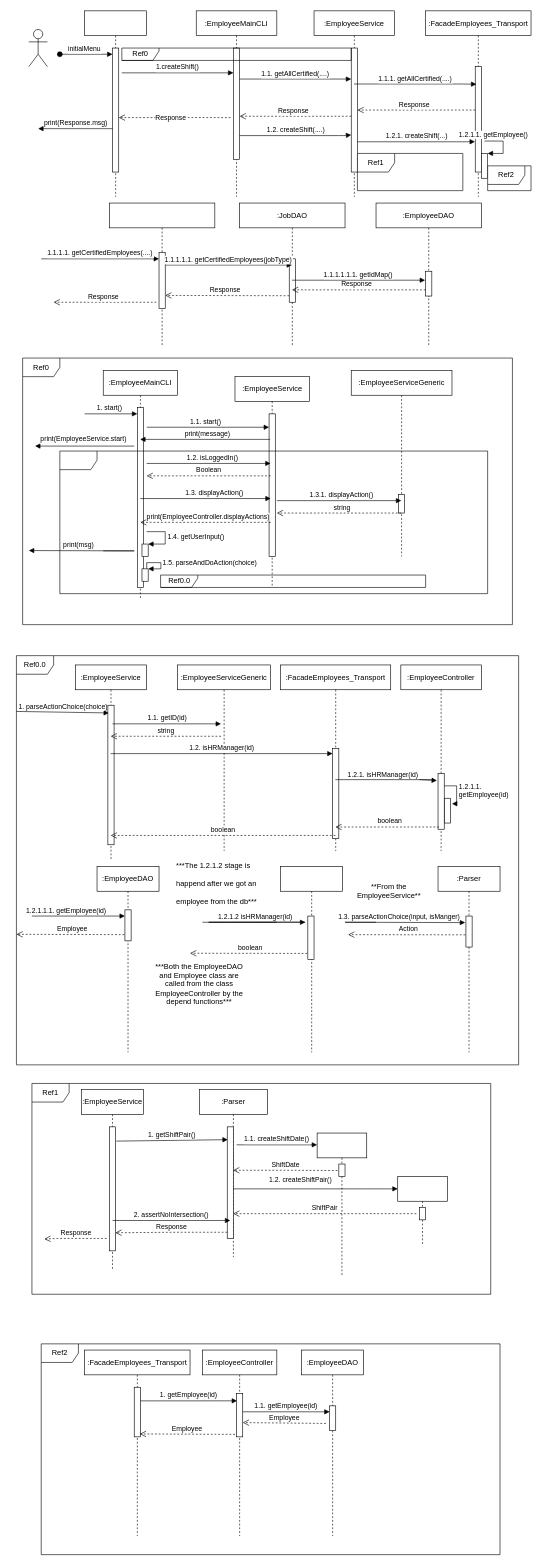
The diagram is 542 pixels wide and 1566 high, and some of its shapes have lost their labels. Each missing label, with the box of its shape:
:Employee: (280, 866, 343, 1052)
:JobController: (109, 202, 215, 346)
:Menu: (84, 10, 147, 197)
:ShiftDate: (317, 1132, 367, 1276)
:ShiftPair: (397, 1176, 447, 1245)
HRManager: (28, 29, 47, 67)
Loop: (59, 450, 488, 594)
